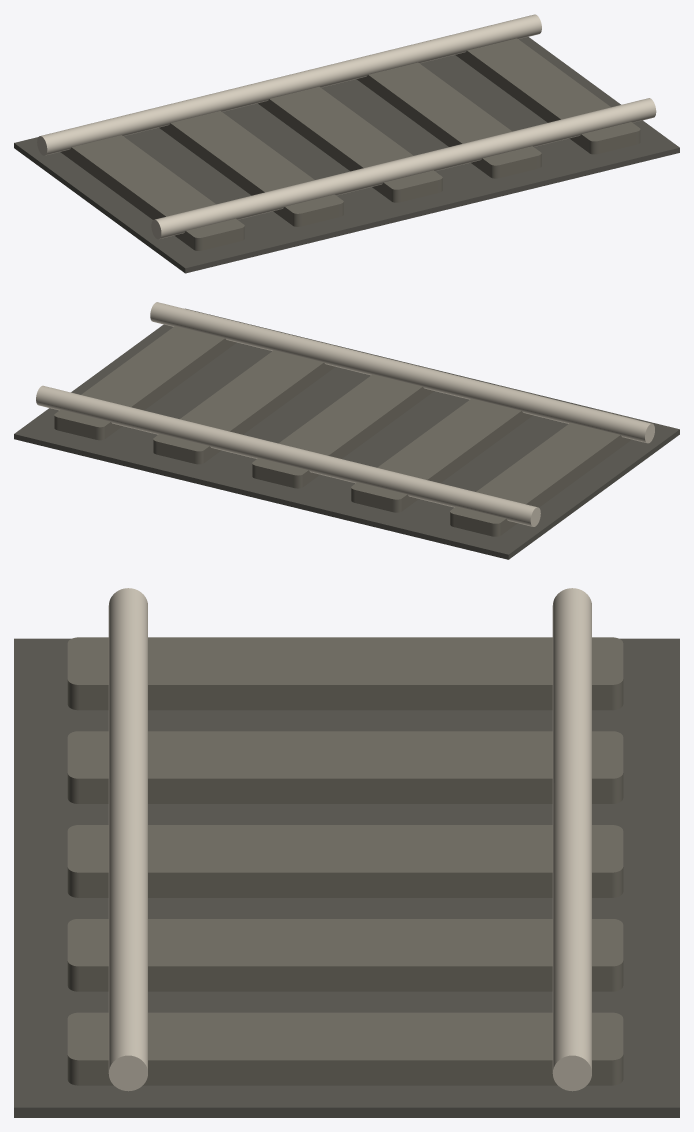
Rendered from rails.fbx.
The picture shows the model from 3 angles, top to bottom: view 1: azimuth 30°, elevation 25°; view 2: azimuth 150°, elevation 25°; view 3: azimuth 270°, elevation 25°; orthographic projection. The views are drawn at different scales.
Parts seen in each view (by area): view 1: Route_1, Sweep_1_0, Sweep_1_1, Bande_0, Bande_3, Bande_4, Bande_1, Bande_2; view 2: Route_1, Sweep_1_0, Sweep_1_1, Bande_0, Bande_1, Bande_2, Bande_3, Bande_4; view 3: Route_1, Bande_4, Bande_0, Bande_2, Bande_3, Bande_1, Sweep_1_0, Sweep_1_1.
Boxes of the visible parts, x1,y1,x2,y2 form: Route_1: [14, 37, 679, 273]; Sweep_1_0: [151, 98, 656, 239]; Sweep_1_1: [37, 14, 541, 155]; Bande_0: [60, 135, 244, 250]; Bande_3: [356, 62, 541, 178]; Bande_4: [455, 38, 640, 154]; Bande_1: [159, 111, 343, 226]; Bande_2: [258, 86, 442, 202]; Route_1: [14, 308, 679, 559]; Sweep_1_0: [150, 302, 654, 443]; Sweep_1_1: [36, 385, 540, 526]; Bande_0: [450, 409, 637, 536]; Bande_1: [351, 385, 537, 512]; Bande_2: [252, 360, 438, 488]; Bande_3: [153, 337, 338, 464]; Bande_4: [54, 326, 236, 440]; Route_1: [14, 638, 679, 1117]; Bande_4: [67, 1012, 623, 1085]; Bande_0: [67, 637, 623, 710]; Bande_2: [67, 825, 623, 897]; Bande_3: [67, 919, 623, 991]; Bande_1: [67, 731, 623, 803]; Sweep_1_0: [108, 588, 147, 1091]; Sweep_1_1: [552, 588, 591, 1091].
Bounding box in the file's own units: 1001 × 62.54 × 600.
